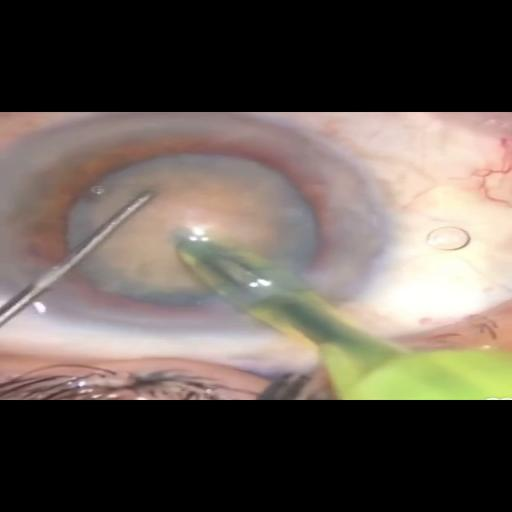catarata: (63, 154, 309, 305)
cornea: (0, 101, 394, 347)
pupil: (21, 134, 327, 316)
